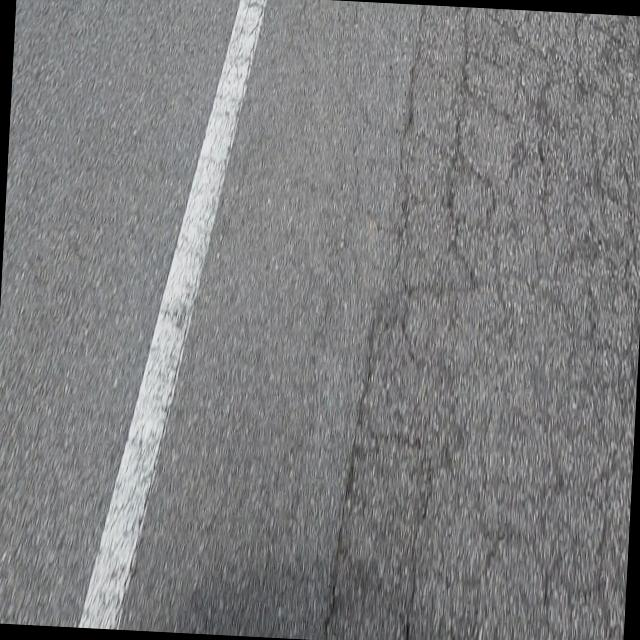Retak-Buaya: (326, 5, 640, 640)
